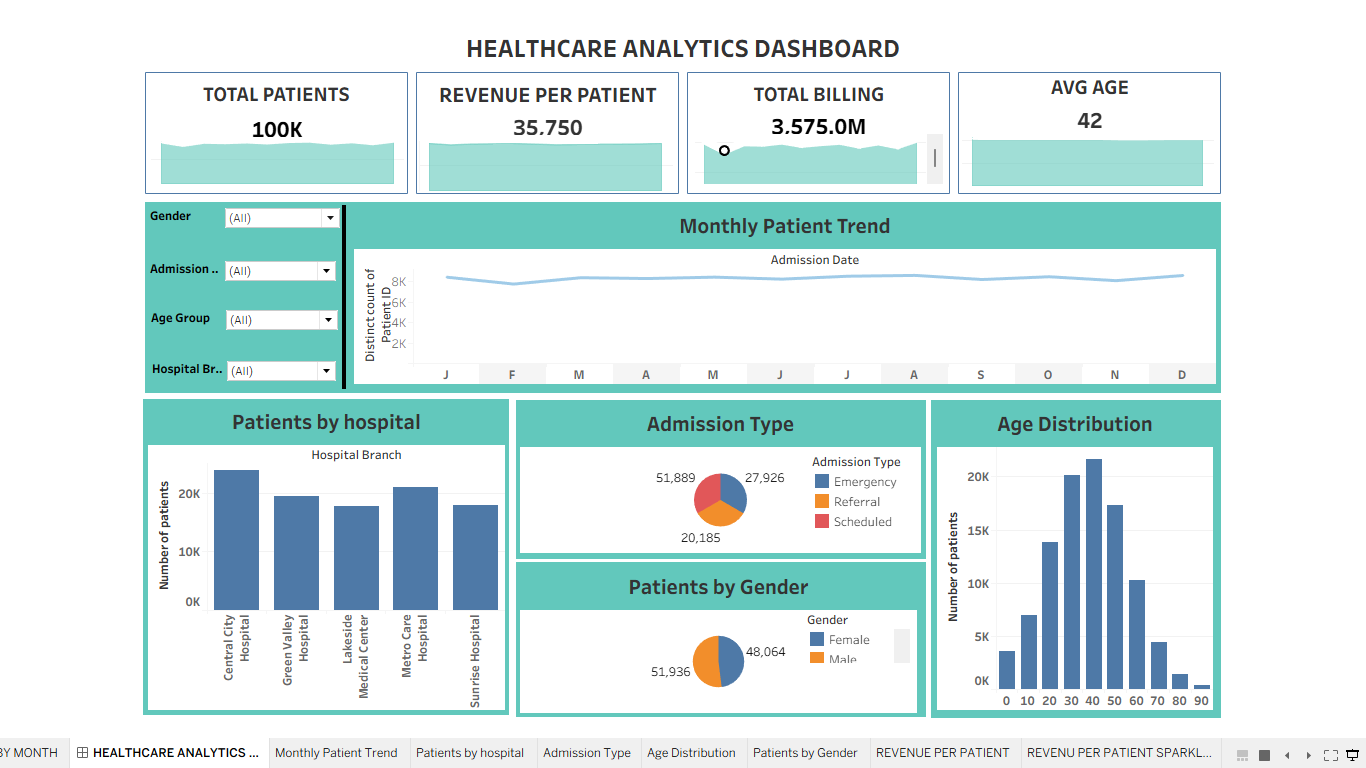

The dashboard page shown, as its layout file describes it:
{"tool":"tableau","page":{"name":"HEALTHCARE ANALYTICS DASHBOARD","canvas":[1100,700],"ordinal":0},"visuals":[{"type":"title","box":[8,8,1084,41]},{"type":"blank","box":[8,49,271,129.9]},{"type":"blank","box":[279,49,271,129.9]},{"type":"blank","box":[550,49,271,129.9]},{"type":"blank","box":[821,49,271,129.9]},{"type":"worksheet","title":"AVG AGE","mark":"Automatic","box":[831.6,49.9,249.7,61.2]},{"type":"worksheet","title":"TOTAL PATIENTS","mark":"Automatic","box":[14,57,259,64]},{"type":"worksheet","title":"REVENUE PER PATIENT","mark":"Automatic","box":[289,57,252,59]},{"type":"worksheet","title":"TOTAL BILLING","mark":"Automatic","box":[560,57,252,58]},{"type":"worksheet","title":"BILLING BY MONTH","mark":"Line","rows":["Billing_Amount","Billing_Amount"],"cols":["Admission_Date"],"box":[562.1,112.9,247.5,51.6]},{"type":"worksheet","title":"AVG AGE BY MONTH","mark":"Area","rows":["Age","Age"],"cols":["Admission_Date"],"box":[829.4,114.6,251.9,52.5]},{"type":"worksheet","title":"PATIENT BY MONTH","mark":"Automatic","rows":["Patient_ID","Patient_ID"],"cols":["Admission_Date"],"box":[18,118,253,47]},{"type":"worksheet","title":"REVENU PER PATIENT SPARKLINE","mark":"Area","rows":["Calculation_0548984721264641"],"cols":["Admission_Date"],"box":[286,122,254,50]},{"type":"blank","box":[8,178.9,1084,199]},{"type":"blank","box":[209,186,4,184]},{"type":"filter","title":"TOTAL PATIENTS","param":"[federated.0wm6cro0lufe7d16whwgx0oo6bov].[none:Gender:nk]","box":[16.5,186.4,192.5,35.9]},{"type":"worksheet","title":"Monthly Patient Trend","mark":"Line","rows":["Patient_ID"],"cols":["Admission_Date"],"box":[221,188,862,177]},{"type":"filter","title":"TOTAL PATIENTS","param":"[federated.0wm6cro0lufe7d16whwgx0oo6bov].[none:Admission_Type:nk]","box":[16.5,238.9,189.2,34.1]},{"type":"filter","title":"TOTAL PATIENTS","param":"[federated.0wm6cro0lufe7d16whwgx0oo6bov].[none:Age_Group:nk]","box":[17.6,287.9,190.3,36.8]},{"type":"filter","title":"TOTAL PATIENTS","param":"[federated.0wm6cro0lufe7d16whwgx0oo6bov].[none:Hospital_Branch:nk]","box":[18.7,338.6,187,36.8]},{"type":"blank","box":[8,378,1084,314]},{"type":"blank","box":[10,380,366,316]},{"type":"blank","box":[383,381,410,159]},{"type":"blank","box":[798,381,290,318]},{"type":"worksheet","title":"Patients by hospital","mark":"Automatic","rows":["Patient_ID"],"cols":["Hospital_Branch"],"box":[15,384,357,307]},{"type":"worksheet","title":"Admission Type","mark":"Pie","box":[387,386,401,148]},{"type":"worksheet","title":"Age Distribution","mark":"Bar","rows":["Patient_ID"],"cols":["Age (bin)"],"box":[804,386,276,305]},{"type":"legend","title":"Admission Type","param":"[federated.0wm6cro0lufe7d16whwgx0oo6bov].[none:Admission_Type:nk]","box":[679,434,102,82]},{"type":"blank","box":[383,543,410,155]},{"type":"worksheet","title":"Patients by Gender","mark":"Pie","box":[387,549,397,145]},{"type":"legend","title":"Patients by Gender","param":"[federated.0wm6cro0lufe7d16whwgx0oo6bov].[none:Gender:nk]","box":[674.3,592.4,104.5,51.6]}]}

Visuals, with their boxes on the page's 1100x700 design canvas (x1, y1, x2, y2). These are canvas units, not pixel positions in the 1366x768 screenshot, which may show the page scaled, cropped or inside an application window:
title: <box>8,8,1092,49</box>
blank: <box>8,49,279,179</box>
blank: <box>279,49,550,179</box>
blank: <box>550,49,821,179</box>
blank: <box>821,49,1092,179</box>
"AVG AGE" worksheet: <box>832,50,1081,111</box>
"TOTAL PATIENTS" worksheet: <box>14,57,273,121</box>
"REVENUE PER PATIENT" worksheet: <box>289,57,541,116</box>
"TOTAL BILLING" worksheet: <box>560,57,812,115</box>
"BILLING BY MONTH" worksheet (Line marks): <box>562,113,810,164</box>
"AVG AGE BY MONTH" worksheet (Area marks): <box>829,115,1081,167</box>
"PATIENT BY MONTH" worksheet: <box>18,118,271,165</box>
"REVENU PER PATIENT SPARKLINE" worksheet (Area marks): <box>286,122,540,172</box>
blank: <box>8,179,1092,378</box>
blank: <box>209,186,213,370</box>
"TOTAL PATIENTS" filter: <box>16,186,209,222</box>
"Monthly Patient Trend" worksheet (Line marks): <box>221,188,1083,365</box>
"TOTAL PATIENTS" filter: <box>16,239,206,273</box>
"TOTAL PATIENTS" filter: <box>18,288,208,325</box>
"TOTAL PATIENTS" filter: <box>19,339,206,375</box>
blank: <box>8,378,1092,692</box>
blank: <box>10,380,376,696</box>
blank: <box>383,381,793,540</box>
blank: <box>798,381,1088,699</box>
"Patients by hospital" worksheet: <box>15,384,372,691</box>
"Admission Type" worksheet (Pie marks): <box>387,386,788,534</box>
"Age Distribution" worksheet (Bar marks): <box>804,386,1080,691</box>
"Admission Type" legend: <box>679,434,781,516</box>
blank: <box>383,543,793,698</box>
"Patients by Gender" worksheet (Pie marks): <box>387,549,784,694</box>
"Patients by Gender" legend: <box>674,592,779,644</box>
